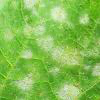Squash Powdery mildew leaf: (1, 1, 99, 96)
